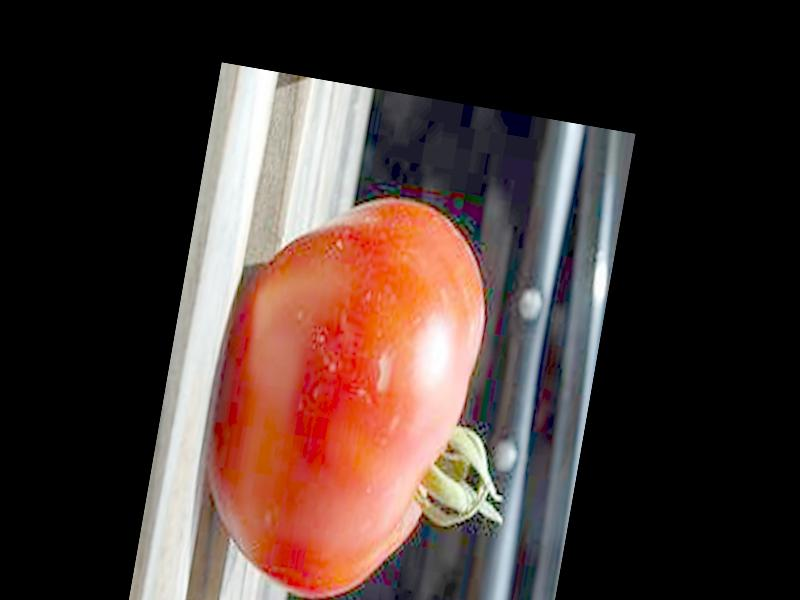Tomato: (191, 176, 550, 600)
